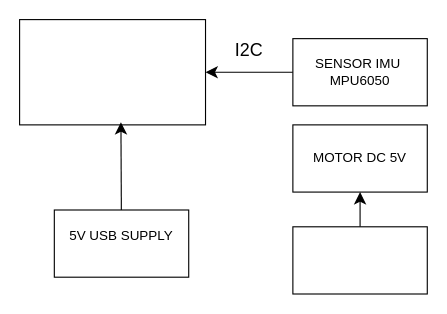
Image size: 447x314. Some labels were removed from this diagram. Each missing label, with the box of its shape:
ESP8266MOD: (18, 18, 206, 125)
FUENTE DE ALIMENTACION 5V: (292, 226, 427, 294)
